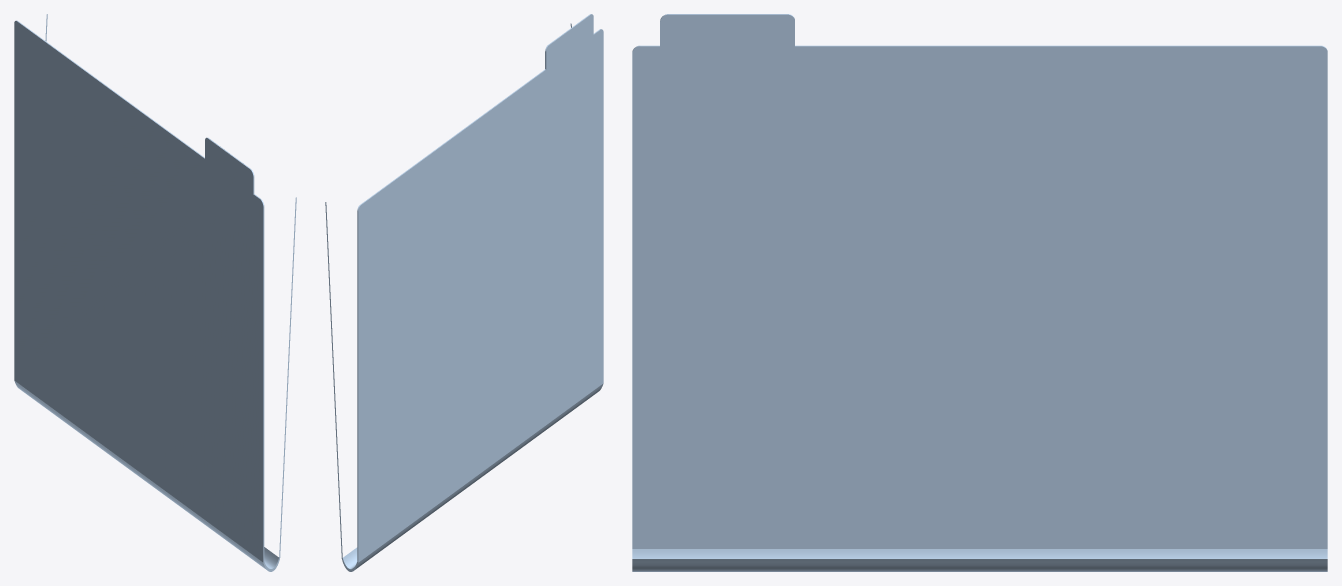
File: folder.fbx
3 views of the same model, side by side, from view 1: azimuth 30°, elevation 25°; view 2: azimuth 150°, elevation 25°; view 3: azimuth 270°, elevation 25° (orthographic). The views are drawn at different scales.
Visible parts, largest first — view 1: SketchUp; view 2: SketchUp; view 3: SketchUp.
Boxes of the visible parts, bbox=[...] form: SketchUp: bbox=[14, 14, 296, 571]; SketchUp: bbox=[325, 14, 603, 571]; SketchUp: bbox=[632, 14, 1327, 571].
Bounding box in the file's own units: 1.97 × 22.23 × 25.4.
